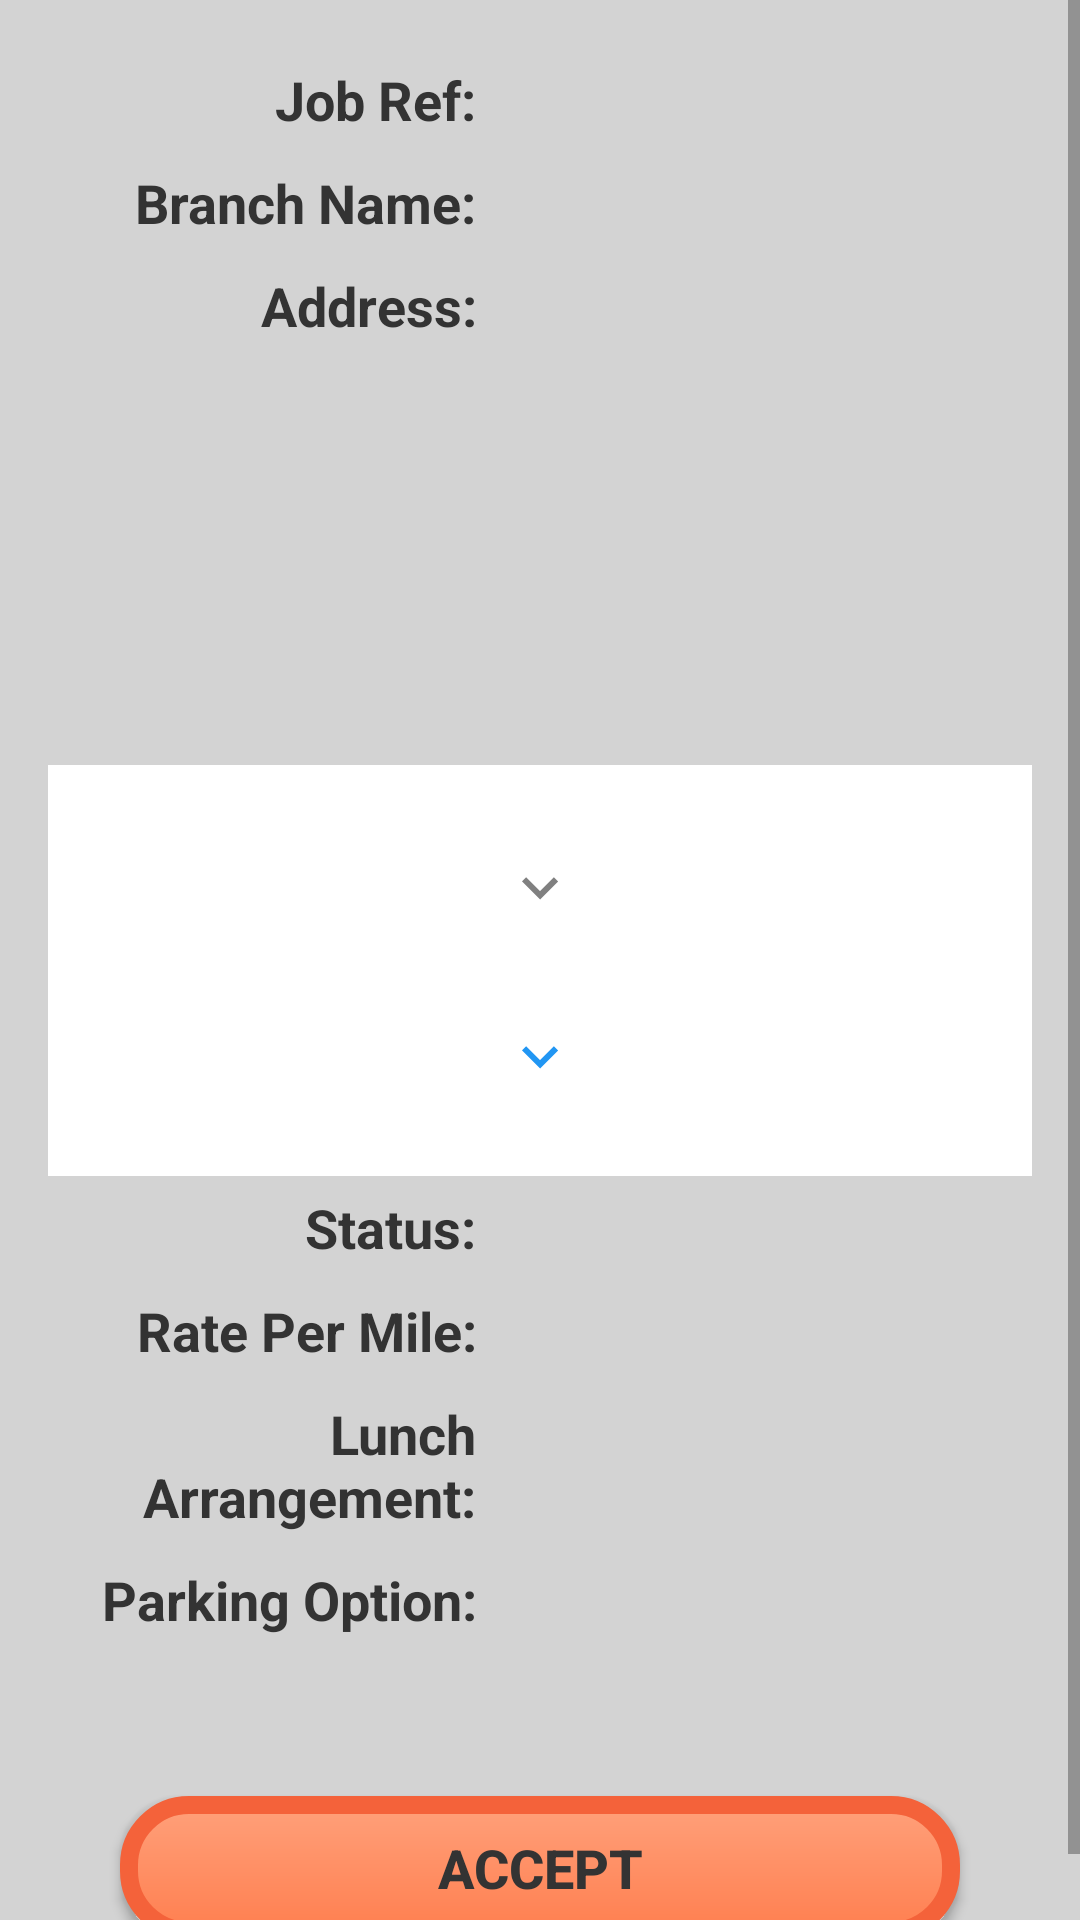

Icon click points for this 1080x1920 phone screenshot, format point (x, y):
arrow down: point (540, 888), point (540, 1057)
